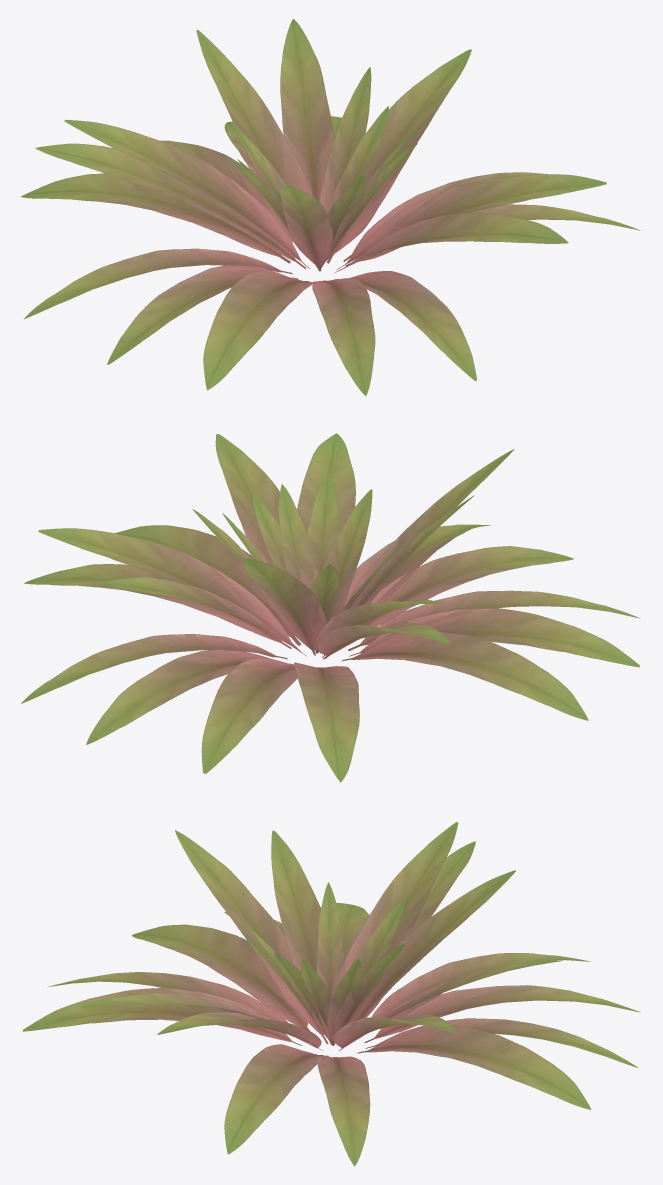
3 renders of one model, top to bottom at view 1: azimuth 30°, elevation 25°; view 2: azimuth 150°, elevation 25°; view 3: azimuth 270°, elevation 25°, orthographic. The views are drawn at different scales.
Visible parts, largest first — view 1: SM_DR_SwampFern_01_LOD0; view 2: SM_DR_SwampFern_01_LOD0; view 3: SM_DR_SwampFern_01_LOD0.
Part boxes in pixels (<box>): SM_DR_SwampFern_01_LOD0: <box>21,19,640,395</box>; SM_DR_SwampFern_01_LOD0: <box>21,433,640,782</box>; SM_DR_SwampFern_01_LOD0: <box>22,822,640,1166</box>.
Size of the model in its own units: 1.35 by 0.4153 by 1.36.
Materials: 1 (1 with a texture image).
